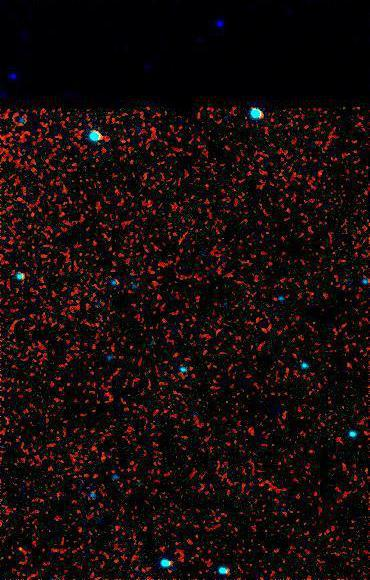star: (9, 531, 39, 561)
